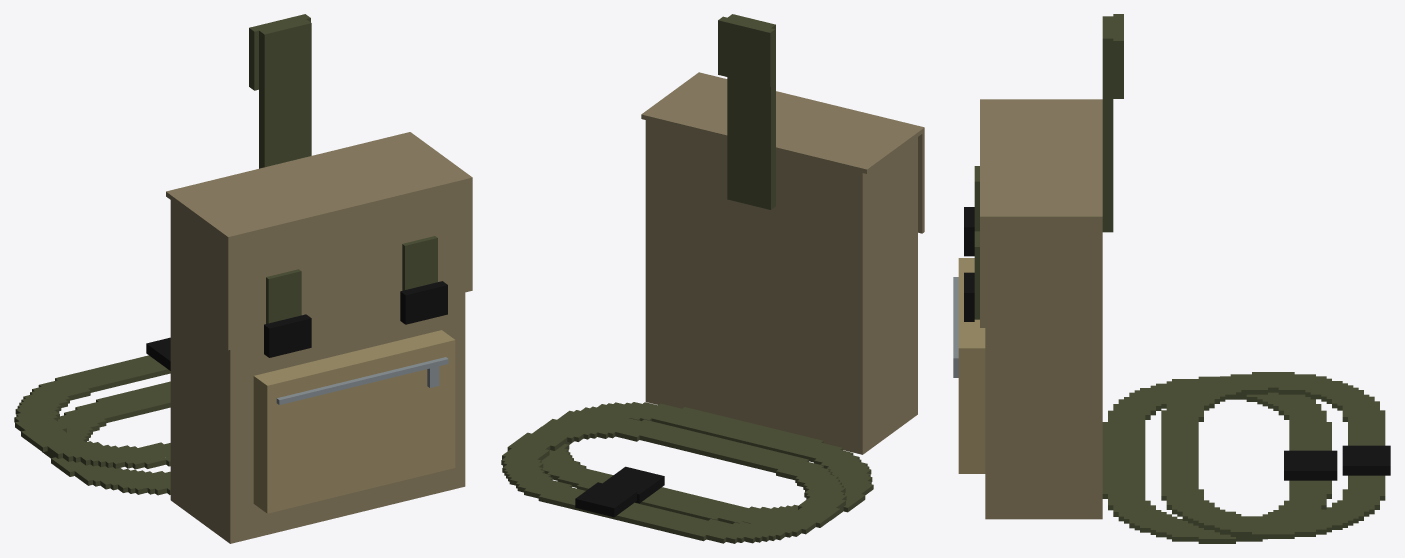
The model's file is leg_bag.glb.
The picture shows the model from 3 angles, left to right: view 1: azimuth 30°, elevation 25°; view 2: azimuth 150°, elevation 25°; view 3: azimuth 270°, elevation 25°; orthographic projection. The views are drawn at different scales.
Parts seen in each view (by area): view 1: leg_bag:compound; view 2: leg_bag:compound; view 3: leg_bag:compound.
Boxes of the visible parts, x1,y1,x2,y2 form: leg_bag:compound: (14,14,472,543); leg_bag:compound: (501,14,924,543); leg_bag:compound: (953,14,1390,543).
Size of the model in its own units: 0.288 by 0.36 by 0.328.
